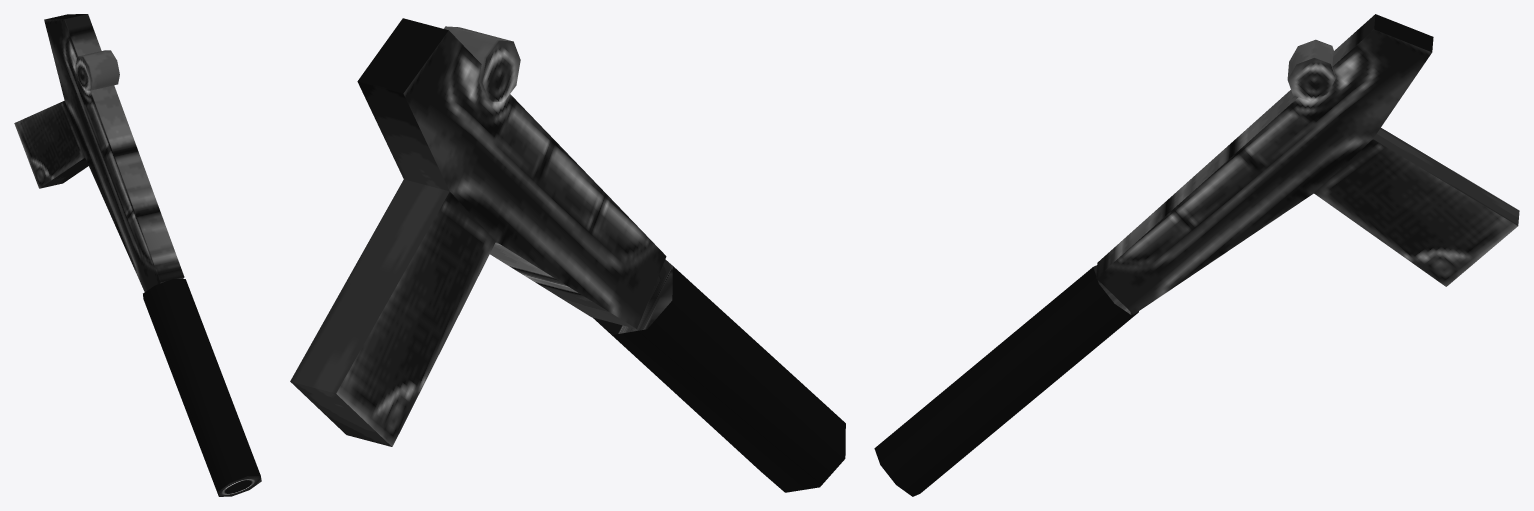
Rendered from p_spygun.glb.
The picture shows the model from 3 angles, left to right: view 1: azimuth 30°, elevation 25°; view 2: azimuth 150°, elevation 25°; view 3: azimuth 270°, elevation 25°; orthographic projection. The views are drawn at different scales.
Visible parts, largest first — view 1: p_spygun; view 2: p_spygun; view 3: p_spygun.
Boxes of the visible parts, bbox=[...] form: p_spygun: bbox=[14, 14, 261, 496]; p_spygun: bbox=[290, 18, 845, 492]; p_spygun: bbox=[874, 14, 1519, 496].
Bounding box in the file's own units: 1.62 × 11.24 × 13.7.
Materials: 2 (2 with a texture image).
